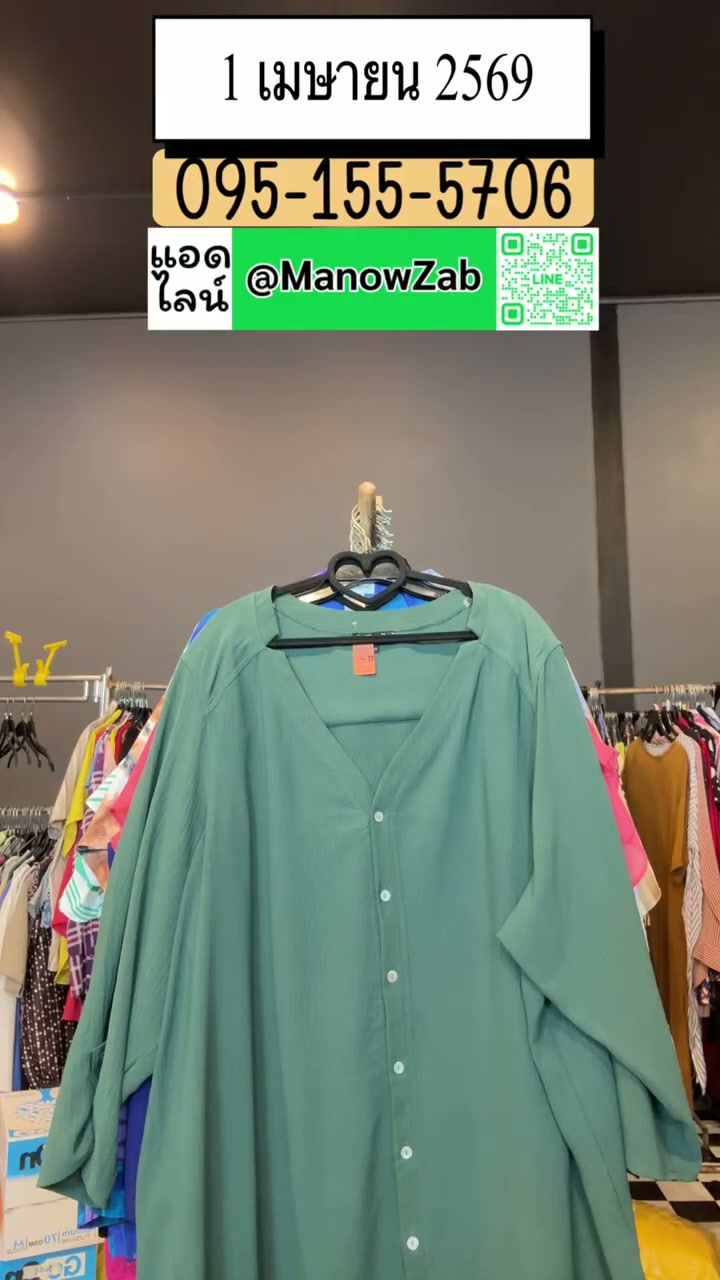display_shirt: (41, 581, 699, 1279), (42, 583, 699, 1279)
